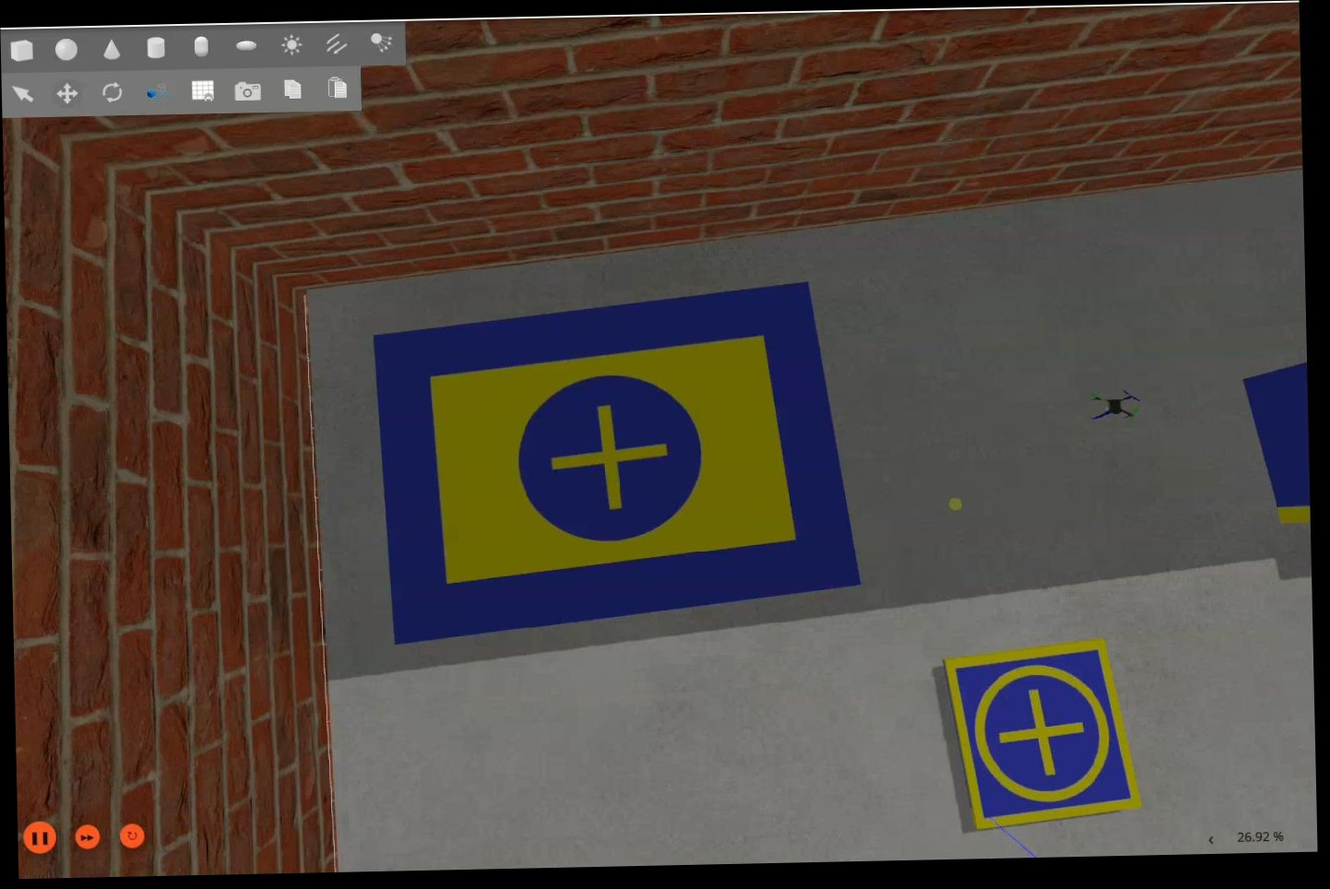large_base: (370, 278, 867, 652)
small_base: (942, 641, 1146, 833)
